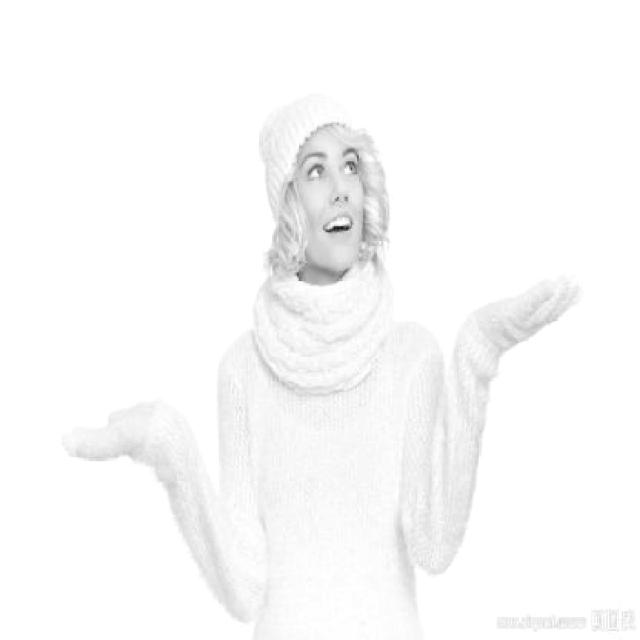face_nomask: (284, 140, 374, 275)
hand_glove: (486, 271, 586, 360), (57, 391, 155, 472)
head_nohelmet: (262, 91, 383, 155)
person: (60, 78, 586, 640)
